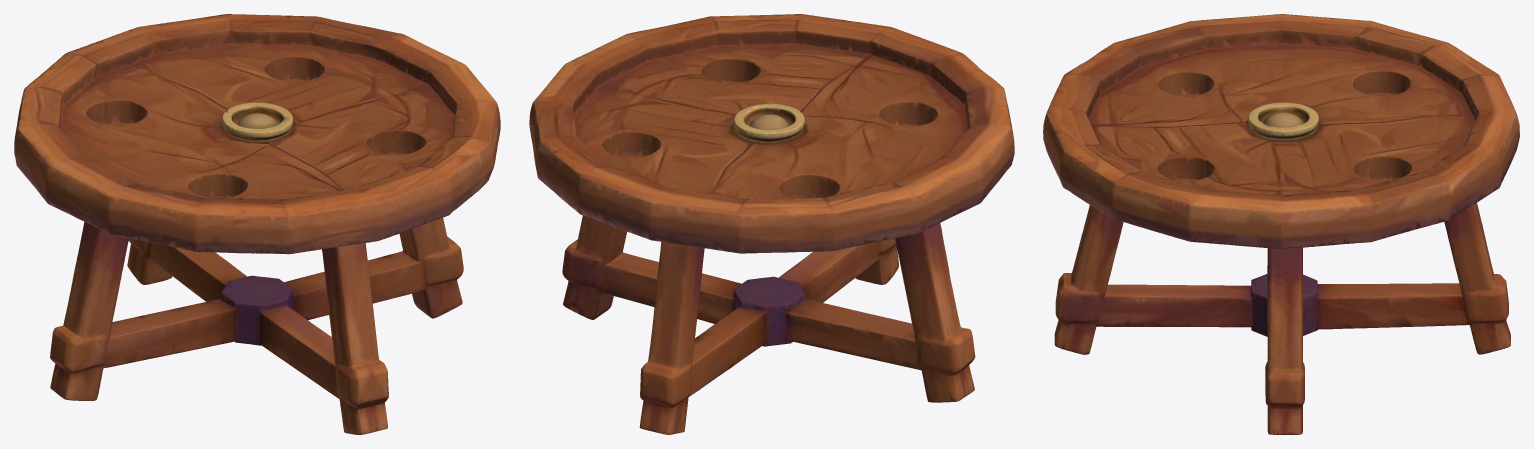
File: 矮圆椅子另一版.glb
The picture shows the model from 3 angles, left to right: view 1: azimuth 30°, elevation 25°; view 2: azimuth 150°, elevation 25°; view 3: azimuth 270°, elevation 25°; orthographic projection. The views are drawn at different scales.
Parts seen in each view (by area): view 1: tripo_node_0727c9ce-478b-4f7a-b43b-f5147f34d120; view 2: tripo_node_0727c9ce-478b-4f7a-b43b-f5147f34d120; view 3: tripo_node_0727c9ce-478b-4f7a-b43b-f5147f34d120.
Boxes of the visible parts, left/top/right/bottom form: tripo_node_0727c9ce-478b-4f7a-b43b-f5147f34d120: left=14, top=14, right=500, bottom=434; tripo_node_0727c9ce-478b-4f7a-b43b-f5147f34d120: left=529, top=14, right=1014, bottom=434; tripo_node_0727c9ce-478b-4f7a-b43b-f5147f34d120: left=1043, top=14, right=1519, bottom=434.
Bounding box in the file's own units: 0.9996 × 0.5511 × 0.9998.
Materials: 1 (1 with a texture image).
